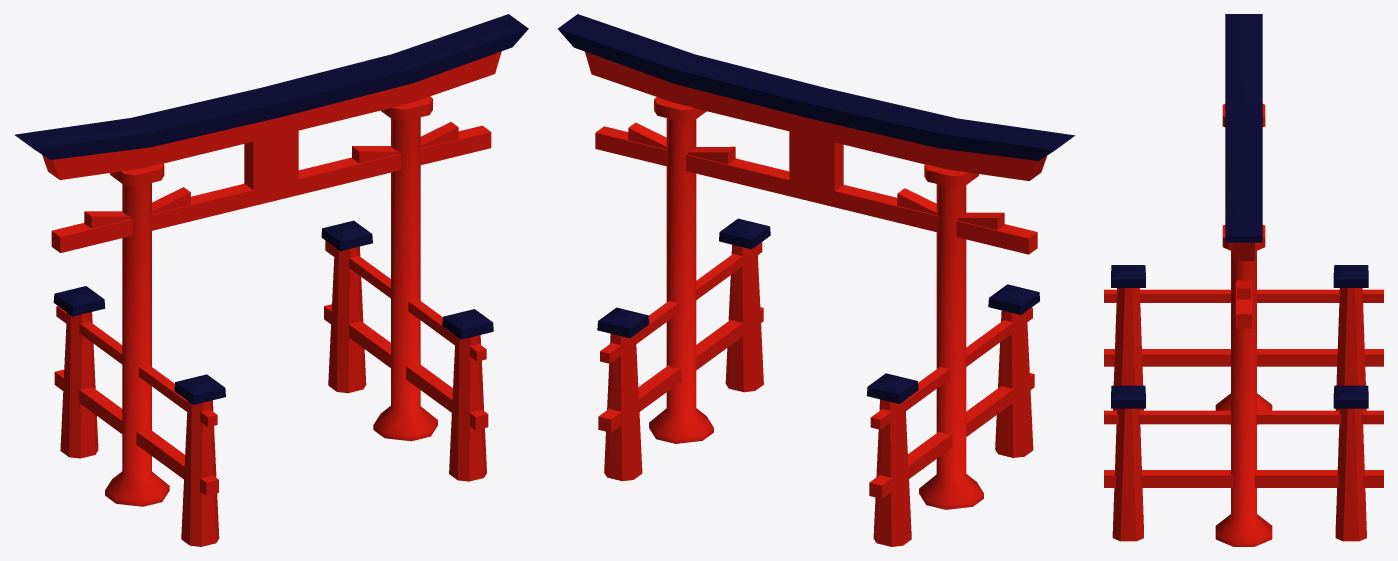
File: arco japones.fbx
The picture shows the model from 3 angles, left to right: view 1: azimuth 30°, elevation 25°; view 2: azimuth 150°, elevation 25°; view 3: azimuth 270°, elevation 25°; orthographic projection. The views are drawn at different scales.
Visible parts, largest first — view 1: Cube.008; view 2: Cube.008; view 3: Cube.008.
Part boxes in pixels (bbox=[...]): Cube.008: bbox=[14, 14, 528, 546]; Cube.008: bbox=[557, 14, 1075, 546]; Cube.008: bbox=[1104, 14, 1383, 546].
Size of the model in its own units: 683 by 500 by 363.
